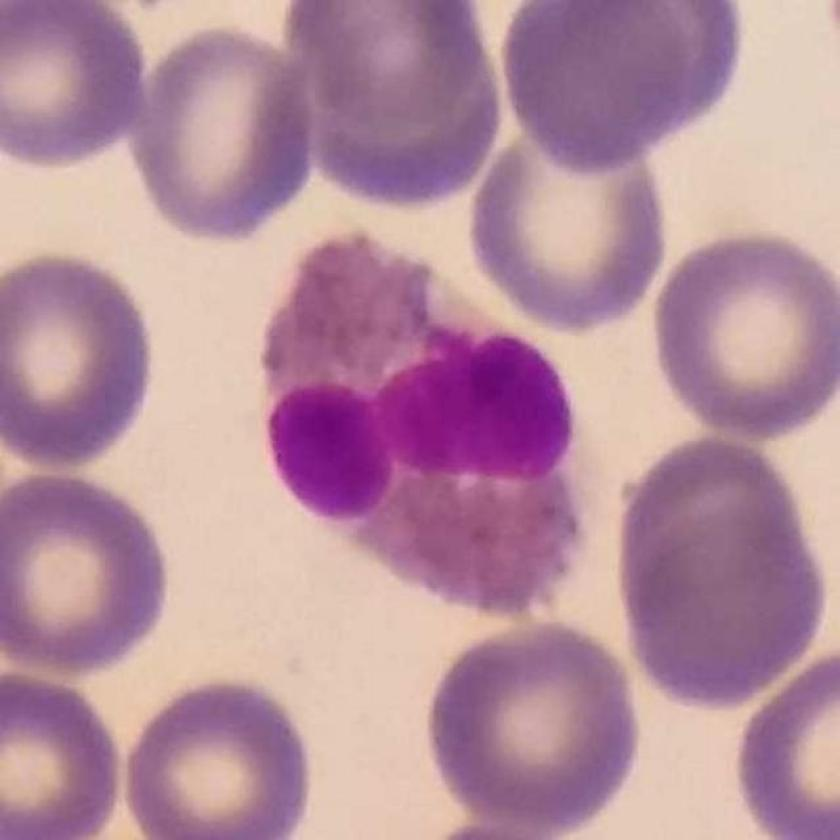eosinophil: (240, 211, 590, 622)
